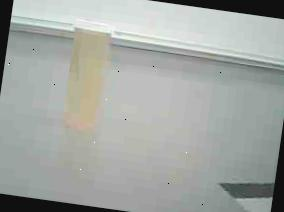Bottle A: (52, 9, 119, 140)
